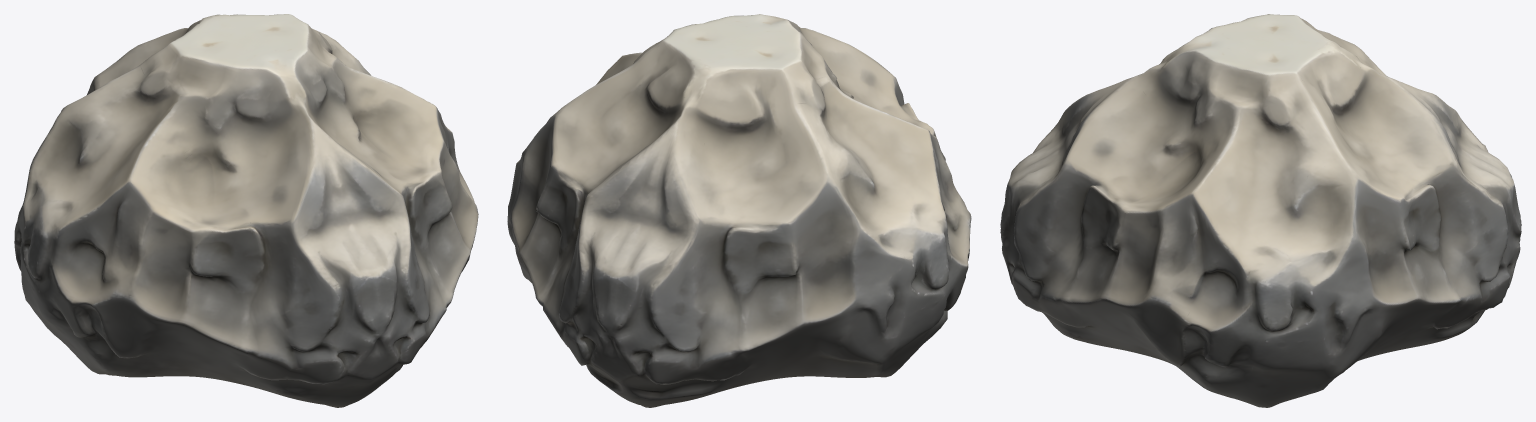
The model's file is stone1.fbx.
The picture shows the model from 3 angles, left to right: view 1: azimuth 30°, elevation 25°; view 2: azimuth 150°, elevation 25°; view 3: azimuth 270°, elevation 25°; orthographic projection.
Visible parts, largest first — view 1: model; view 2: model; view 3: model.
Part boxes in pixels (x1=…): model: x1=14, y1=14, x2=478, y2=407; model: x1=507, y1=14, x2=971, y2=407; model: x1=1000, y1=14, x2=1521, y2=407.
Bounding box in the file's own units: 173 × 117 × 189.
Materials: 1 (1 with a texture image).
